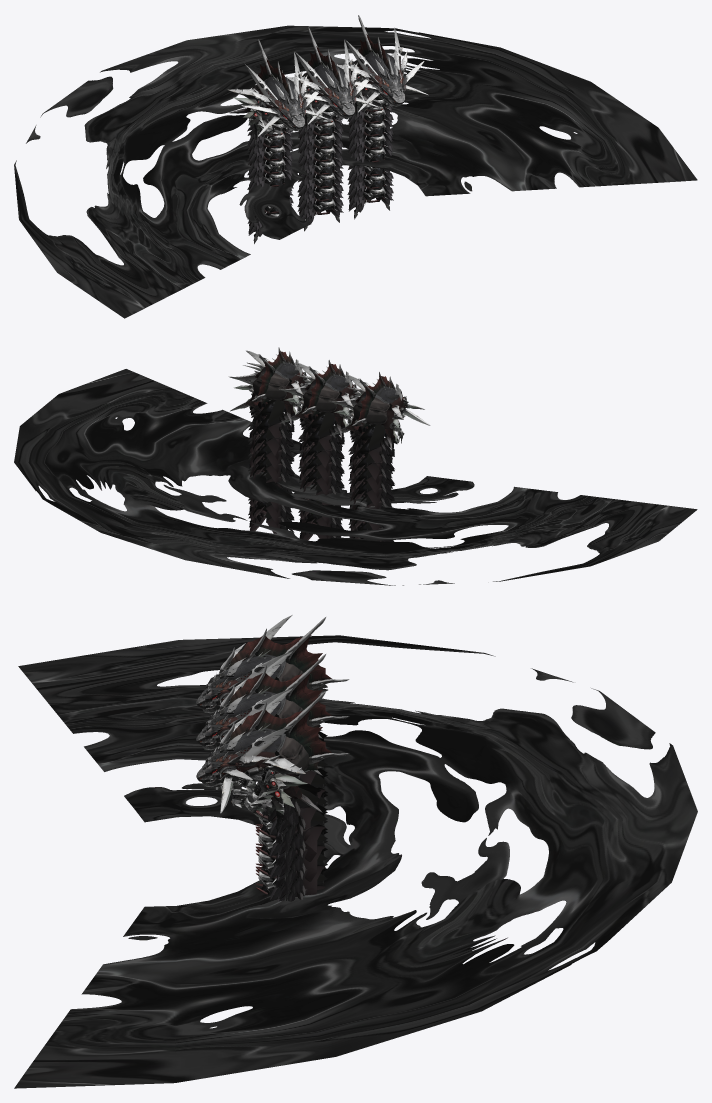
Rendered from bbg008_hsta.glb.
3 views of the same model, one above another, from view 1: azimuth 30°, elevation 25°; view 2: azimuth 150°, elevation 25°; view 3: azimuth 270°, elevation 25° (orthographic). The views are drawn at different scales.
Visible parts, largest first — view 1: bbg008_hsta; view 2: bbg008_hsta; view 3: bbg008_hsta.
Part boxes in pixels (x1,y1,x2,y2): bbg008_hsta: [14, 15, 697, 318]; bbg008_hsta: [14, 347, 697, 585]; bbg008_hsta: [14, 615, 697, 1088].
Size of the model in its own units: 180 by 54.71 by 117.
16 materials, 16 textured.
